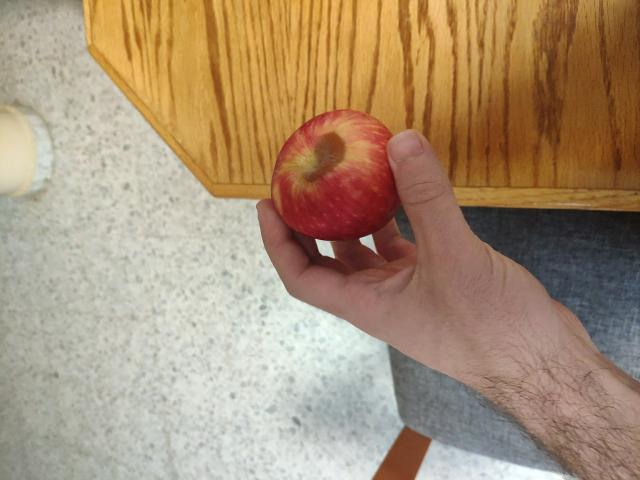apple: (262, 104, 418, 244)
